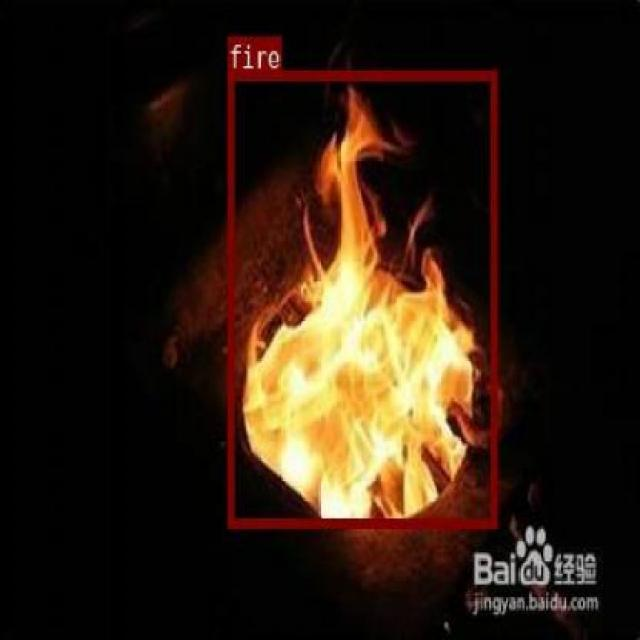Fire: (269, 298, 362, 456)
